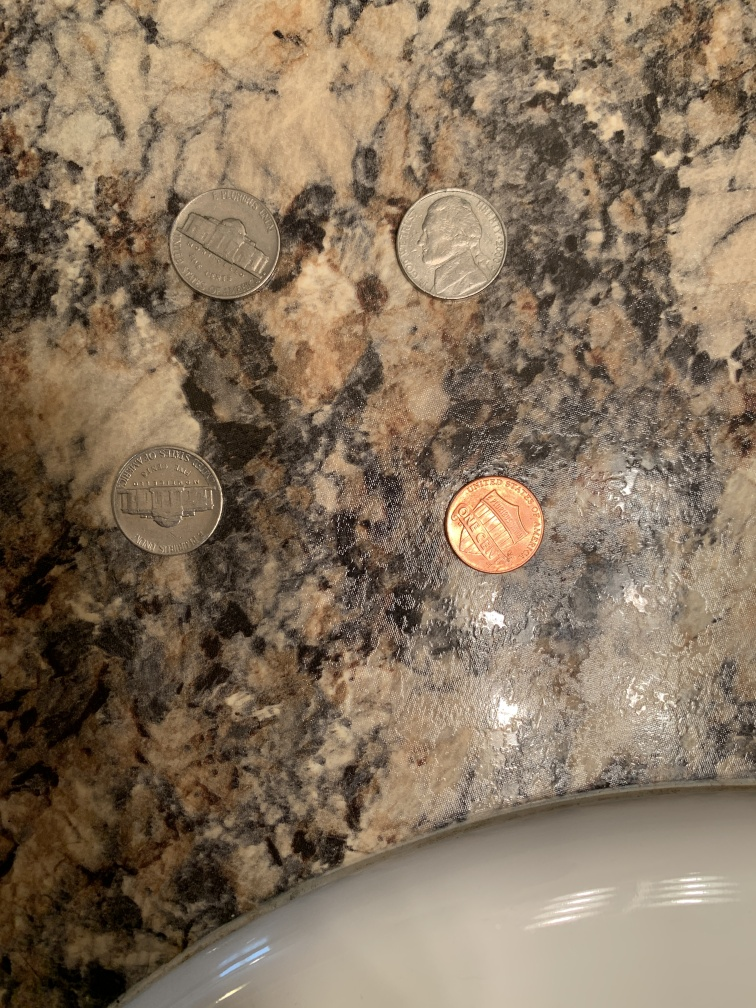nickel: (105, 437, 229, 561), (165, 185, 286, 305), (390, 185, 511, 302)
penny: (441, 470, 547, 579)
